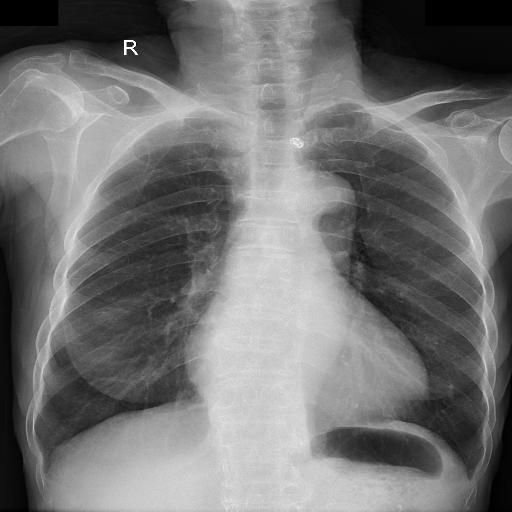Aortic enlargement: (248, 140, 320, 199)
Cardiomegaly: (62, 268, 306, 370)
Pleural effusion: (19, 430, 43, 464)
Pleural thickening: (19, 430, 43, 464)
